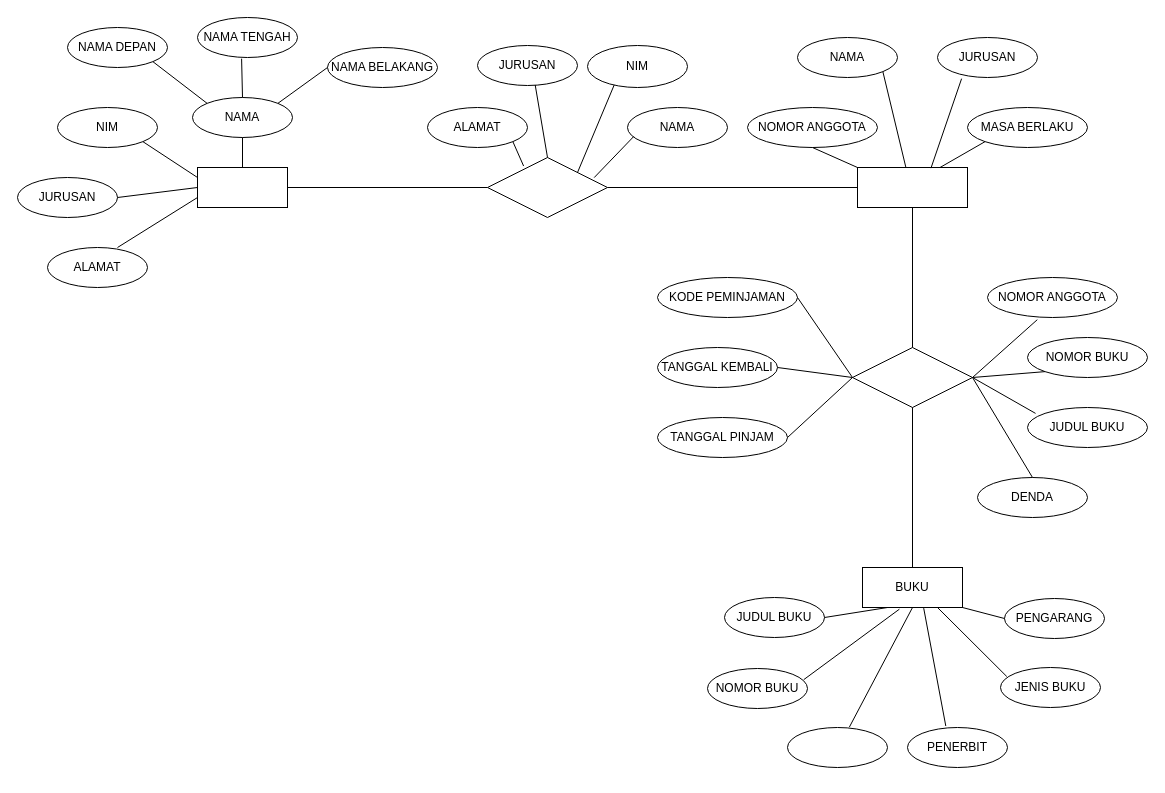
Image size: 1165x793. Some labels were removed from this diagram. The shapes that lost their labels are listed below. From the top down, each one's box as (x1, y1, x2, y2) in pixels, then its label:
(196, 166, 288, 208): MAHASISWA
(486, 156, 608, 218): MENDAFTAR
(856, 166, 968, 208): ANGGOTA PERPUSTAKAAN
(852, 346, 972, 408): MEMINJAM
(786, 726, 888, 768): TAHUN TERBIT
